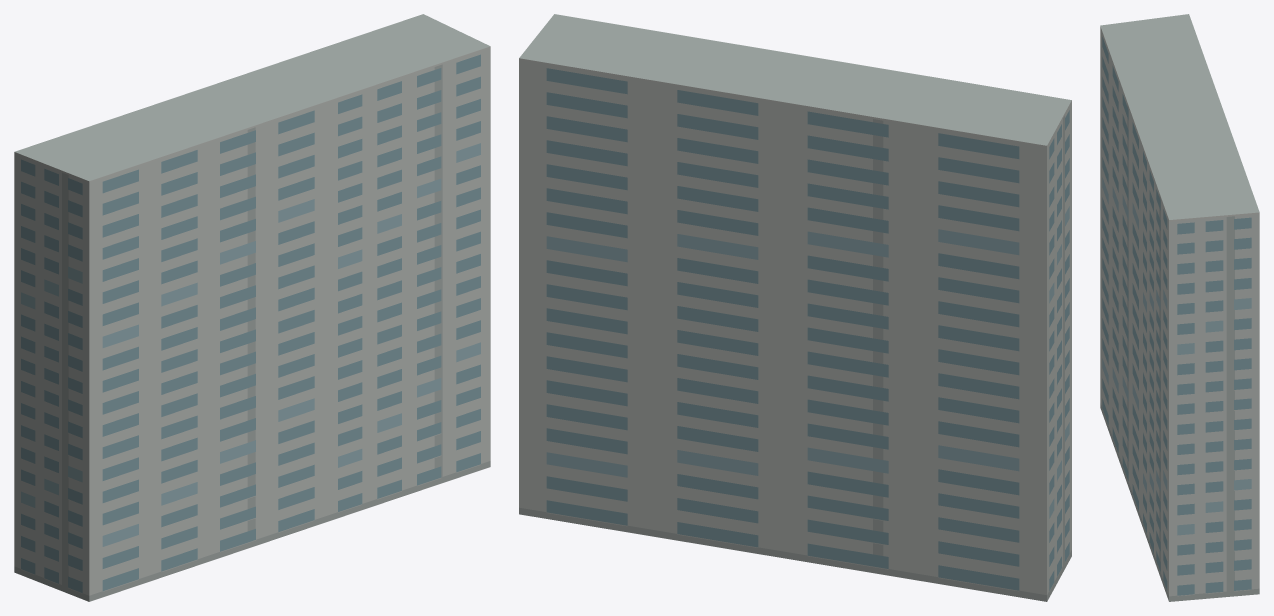
File: residential-f0623f32-02b6-49bf-b5fd-33af8198b17d.glb
The picture shows the model from 3 angles, left to right: view 1: azimuth 30°, elevation 25°; view 2: azimuth 150°, elevation 25°; view 3: azimuth 270°, elevation 25°; orthographic projection. The views are drawn at different scales.
Visible parts, largest first — view 1: residential-f0623f32-02b6-49bf-b5fd-33af8198b17d.tmp; view 2: residential-f0623f32-02b6-49bf-b5fd-33af8198b17d.tmp; view 3: residential-f0623f32-02b6-49bf-b5fd-33af8198b17d.tmp.
Boxes of the visible parts, x1,y1,x2,y2 form: residential-f0623f32-02b6-49bf-b5fd-33af8198b17d.tmp: [14, 14, 490, 601]; residential-f0623f32-02b6-49bf-b5fd-33af8198b17d.tmp: [519, 14, 1071, 601]; residential-f0623f32-02b6-49bf-b5fd-33af8198b17d.tmp: [1100, 14, 1259, 601].
Size of the model in its own units: 63.69 by 55 by 20.84.
